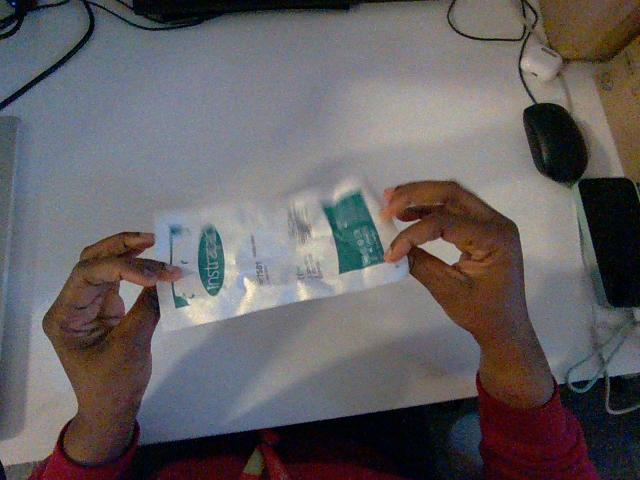gallipot: (155, 177, 407, 329)
